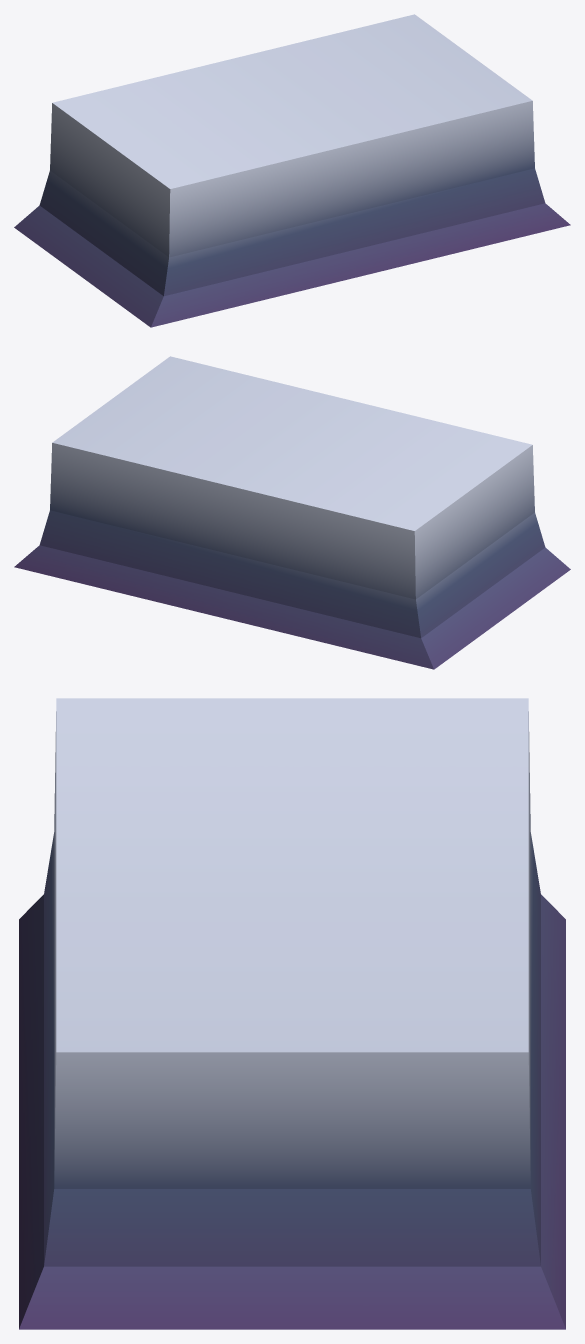
Rendered from mesa.fbx.
3 renders of one model, top to bottom at view 1: azimuth 30°, elevation 25°; view 2: azimuth 150°, elevation 25°; view 3: azimuth 270°, elevation 25°, orthographic. The views are drawn at different scales.
Parts seen in each view (by area): view 1: mesa; view 2: mesa; view 3: mesa.
Part boxes in pixels (x1=…): mesa: x1=14, y1=14, x2=570, y2=327; mesa: x1=14, y1=356, x2=570, y2=669; mesa: x1=19, y1=698, x2=565, y2=1329.
Size of the model in its own units: 411 by 232 by 116.
